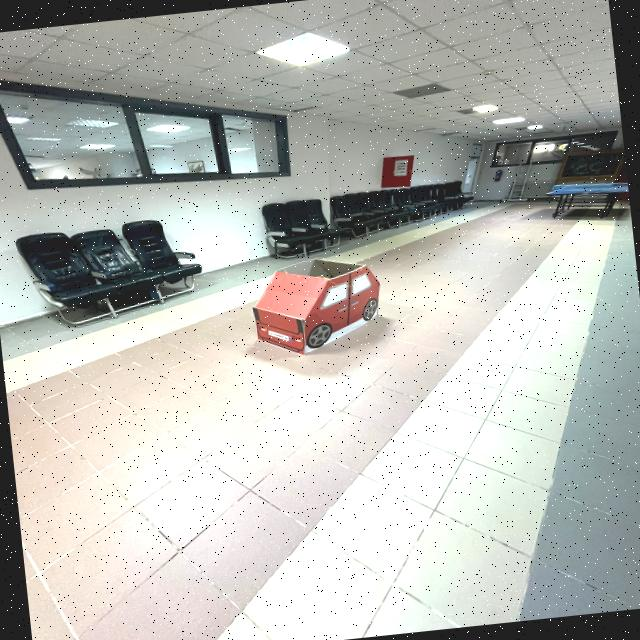red_car: (227, 250, 402, 370)
